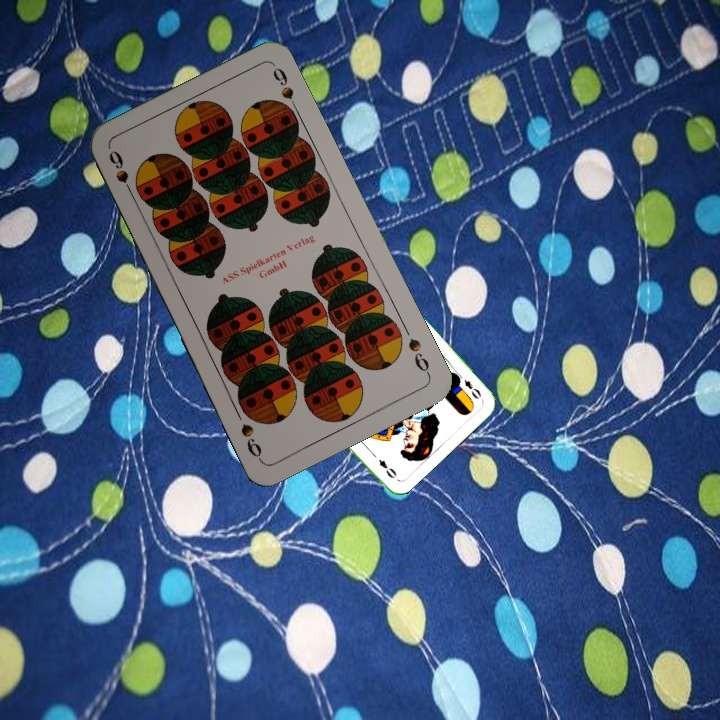EO: (453, 369, 484, 402)
S9: (104, 146, 138, 202), (404, 334, 433, 379)
